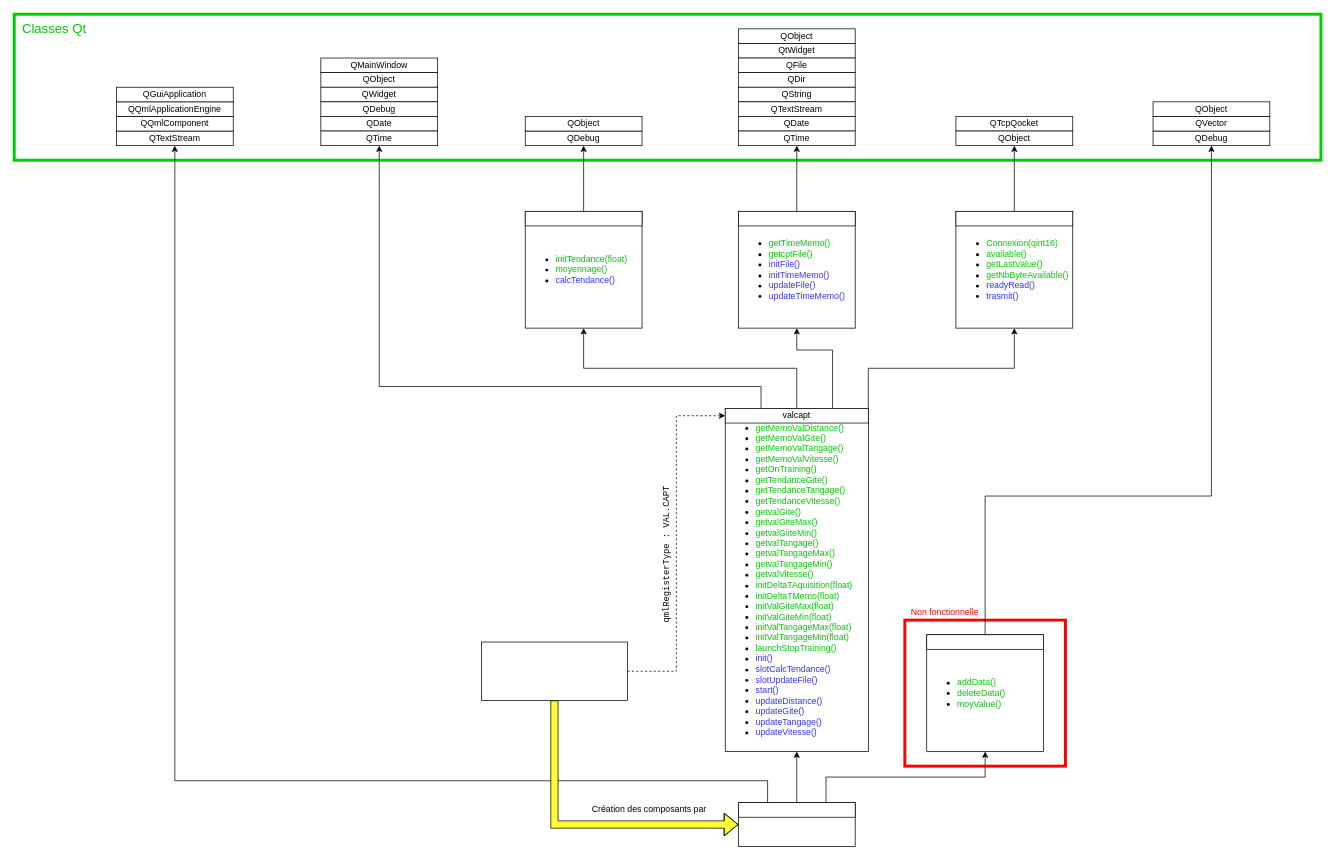
This 1334x859 diagram has some shape labels left out. The shapes that lost their labels are listed below. From the top down, each one's centre as x and y in pixels, then its label:
At [583,218]: "tendance".
At [796,218]: "memo".
At [1014,218]: "SocketDataReceiver".
At [985,641]: "valmoy".
At [554,670]: "COMPOSANTS QML".
At [796,809]: "main".
